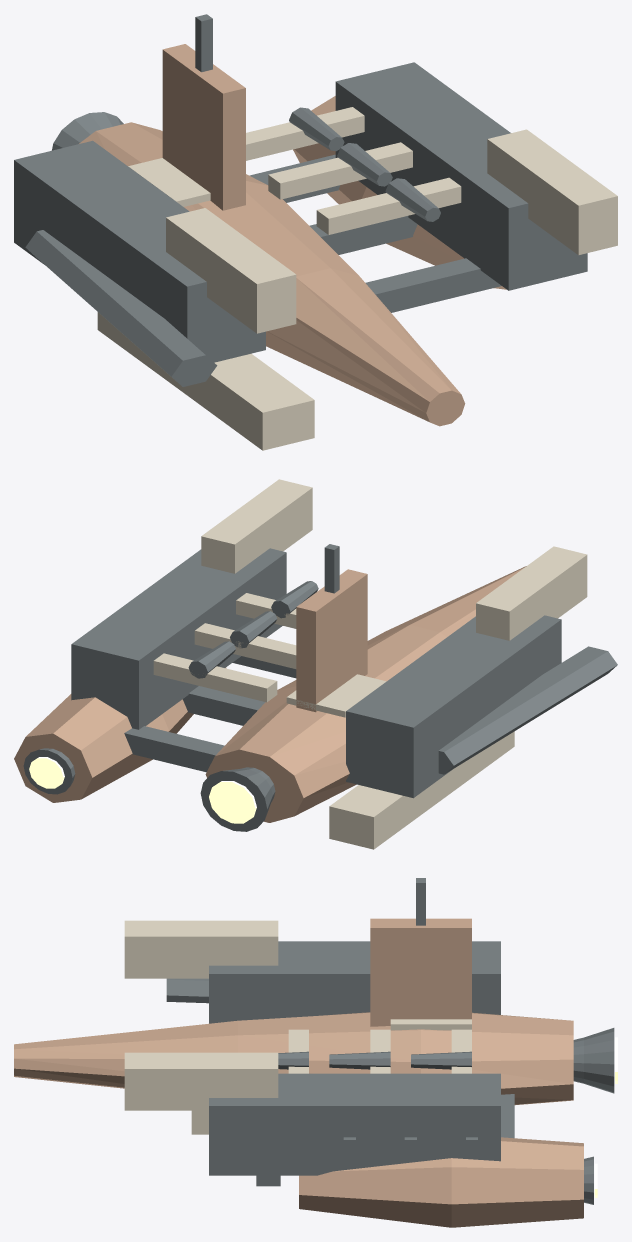
3 views of the same model, one above another, from view 1: azimuth 30°, elevation 25°; view 2: azimuth 150°, elevation 25°; view 3: azimuth 270°, elevation 25° (orthographic). The views are drawn at different scales.
Size of the model in its own units: 11.93 by 7.61 by 15.73.
